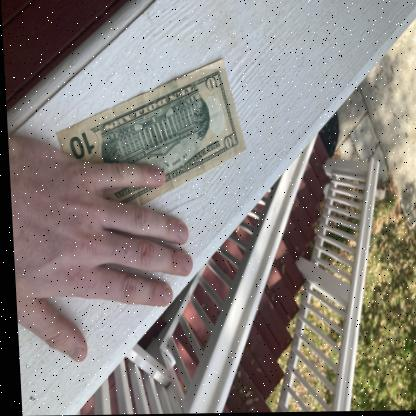ten-back: (53, 61, 244, 230)
